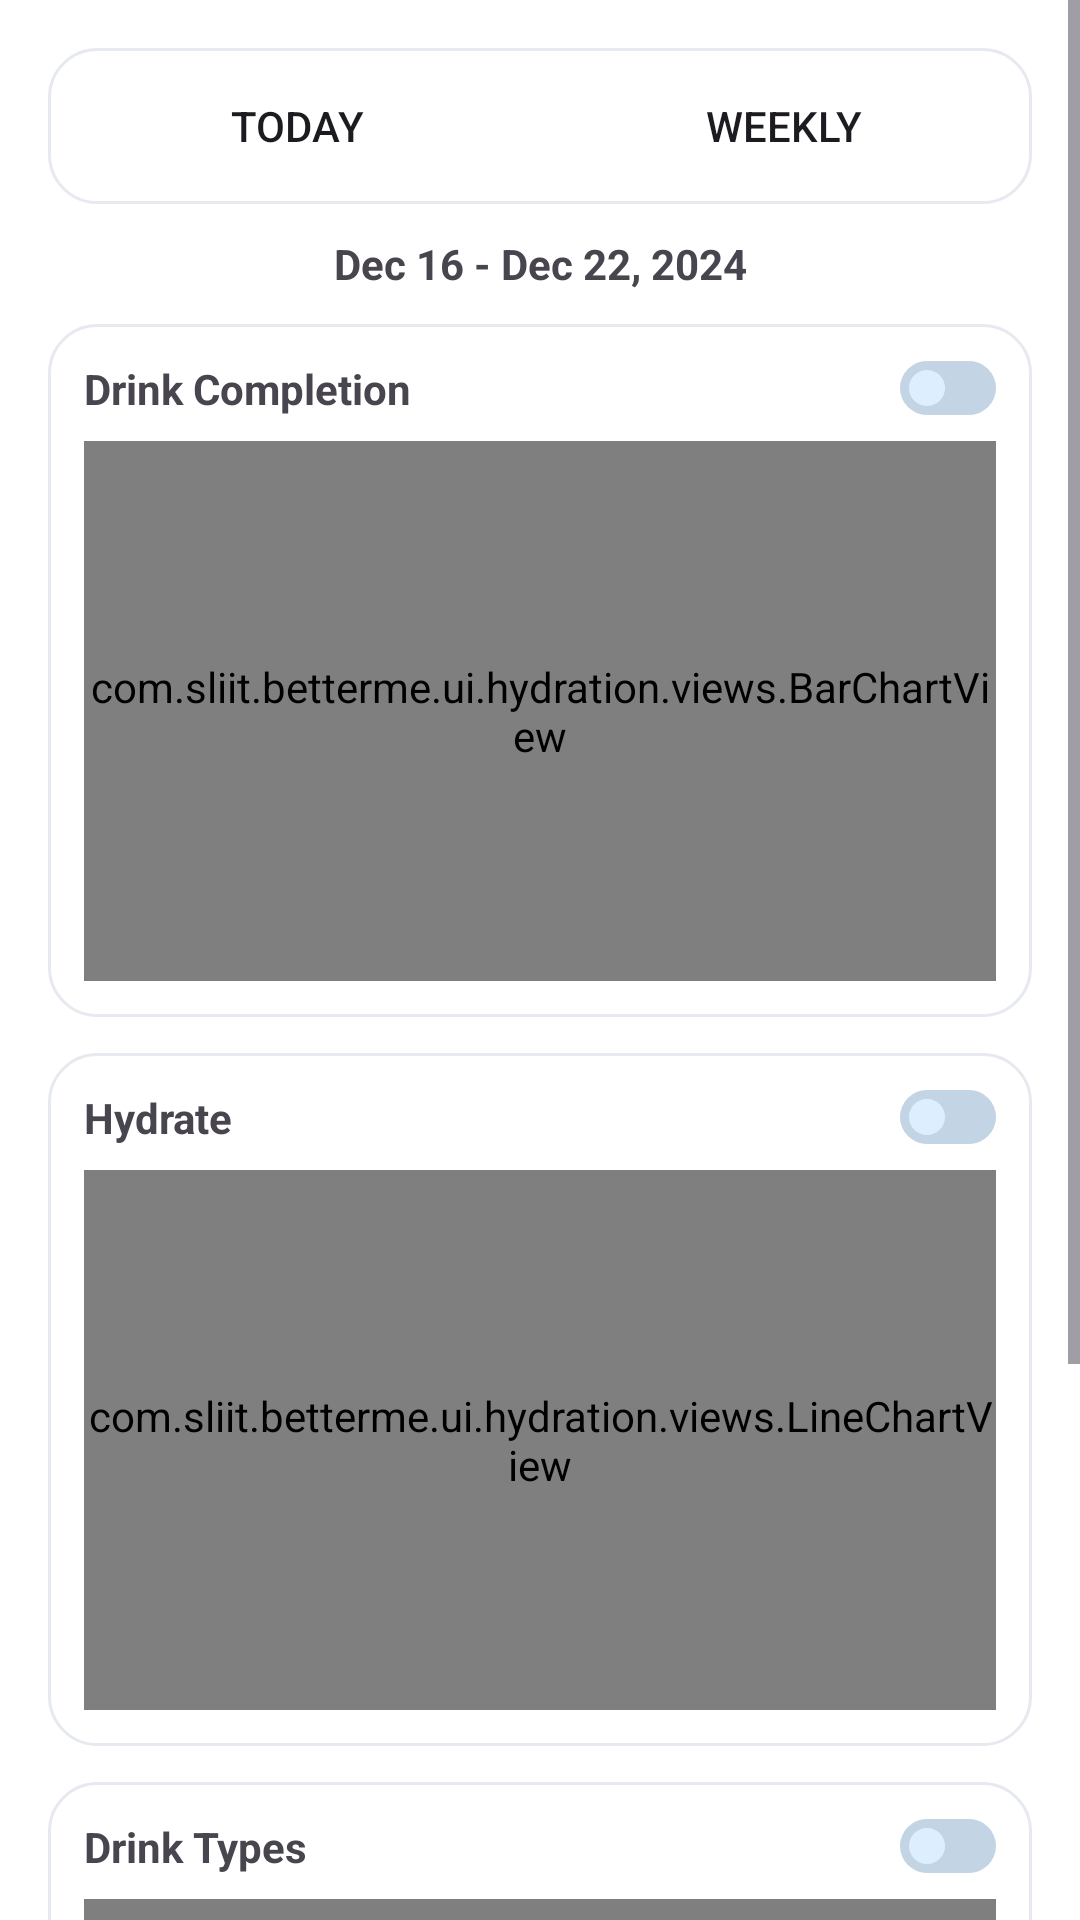

Point at icon controls on the screen. Image size 1080×1920, points as (x,y).
toggle: (948,388), (948,1117), (948,1846)
